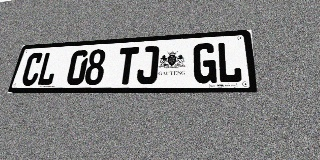0: (65, 50, 89, 85)
8: (83, 49, 107, 85)
C: (20, 52, 44, 86)
G: (193, 42, 217, 84)
J: (136, 46, 159, 84)
L: (217, 41, 243, 83), (36, 51, 60, 86)
T: (115, 47, 139, 85)
